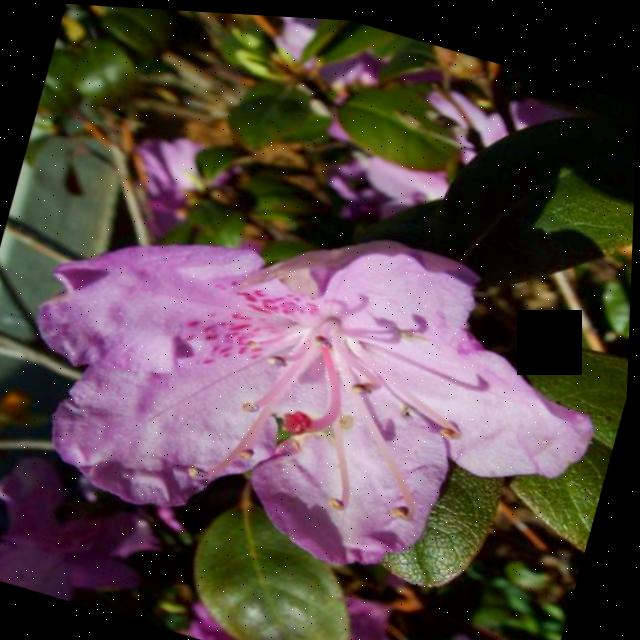azalea: (23, 132, 631, 629)
